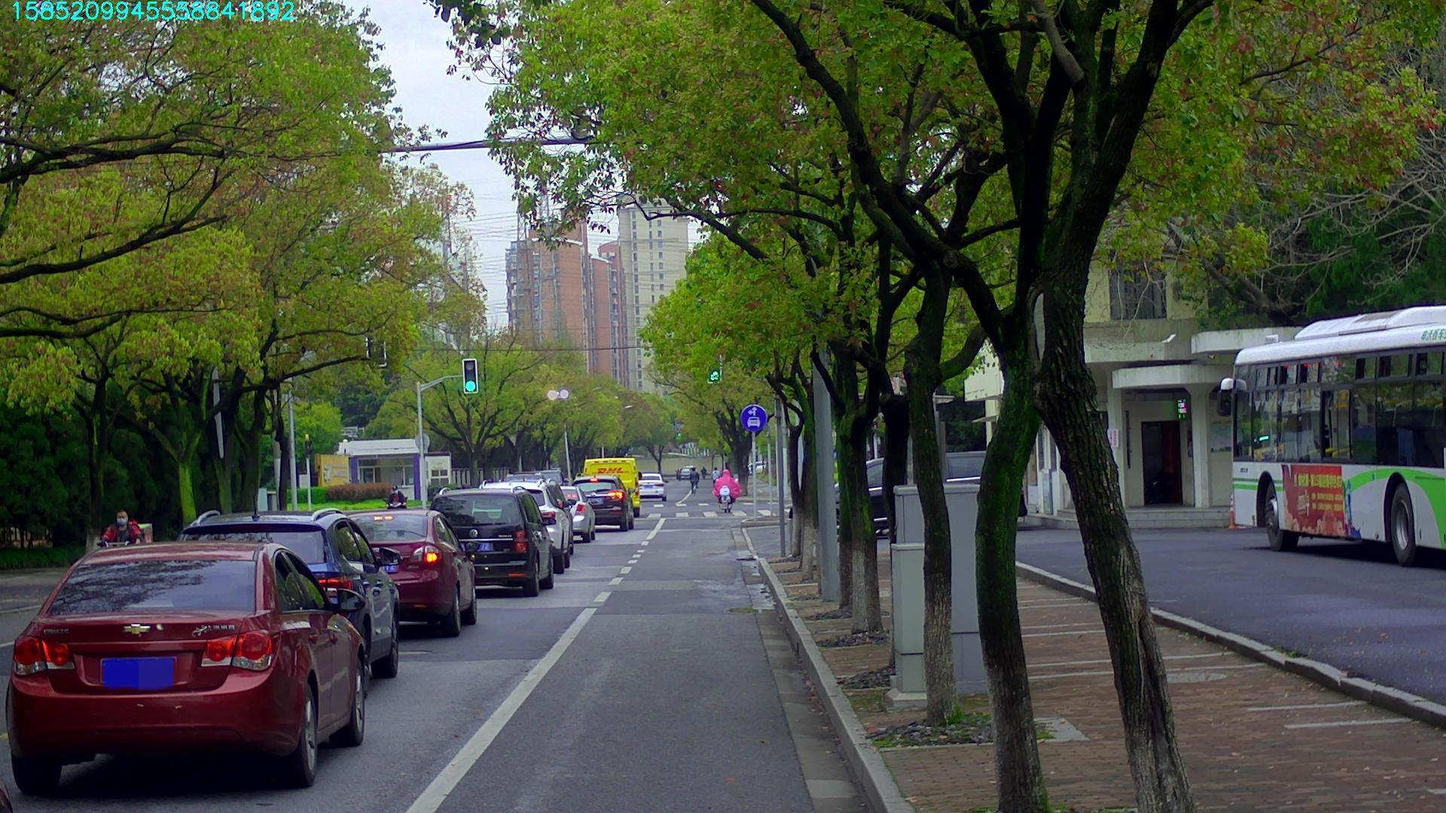green: (708, 347, 721, 382), (463, 359, 476, 392)
